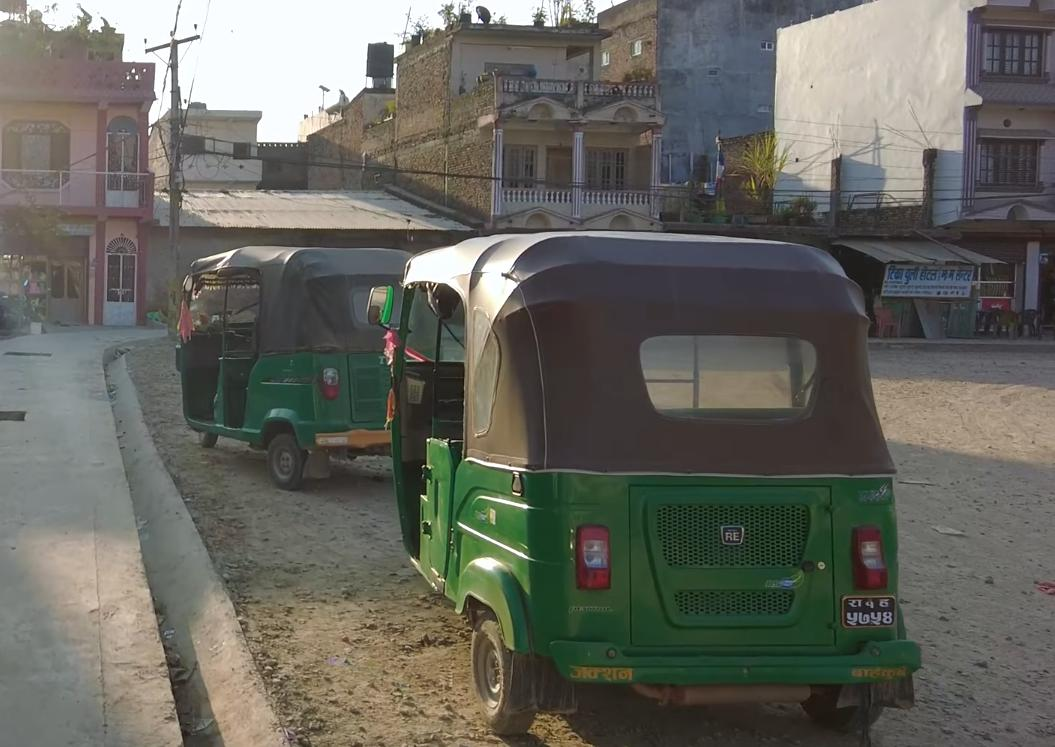auto_rickshaw: (360, 227, 952, 747), (173, 241, 452, 497)
